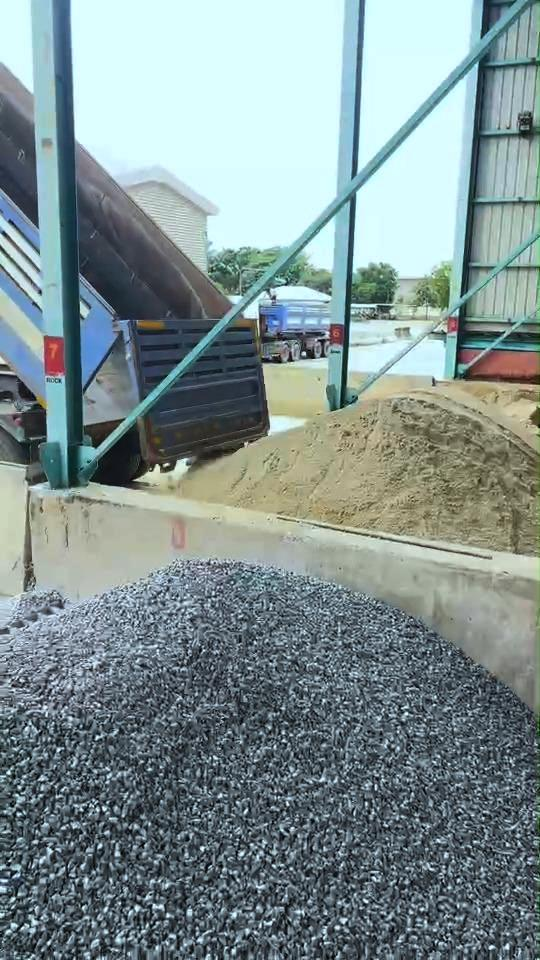gravel: (0, 561, 536, 959)
sand: (177, 385, 537, 554), (444, 381, 538, 421)
